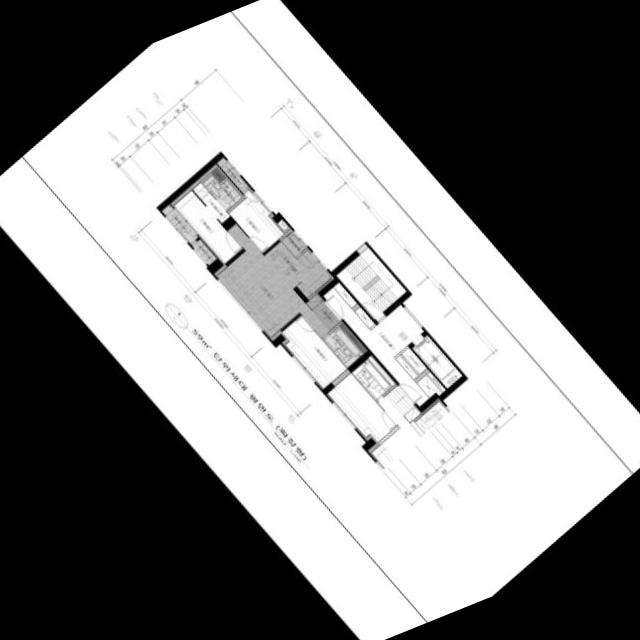background: (0, 0, 640, 640)
space_balconi: (161, 203, 197, 243)
space_bedroom: (169, 186, 241, 264), (280, 315, 346, 389), (228, 188, 284, 252)
space_dressroom: (189, 179, 229, 222)
space_elevator: (411, 334, 461, 388)
space_elevator_hall: (322, 287, 428, 406)
space_front: (305, 292, 340, 330)
space_kitchen: (263, 241, 333, 297)
space_living_room: (213, 223, 328, 340)
space_multipurpose_space: (280, 228, 305, 256)
space_other: (216, 156, 248, 192), (338, 322, 367, 353), (400, 346, 426, 374), (332, 281, 356, 307), (416, 374, 441, 397), (395, 354, 417, 379), (354, 306, 374, 328), (426, 370, 445, 391), (208, 163, 226, 182), (277, 218, 288, 230)
space_outdoor_room: (191, 238, 216, 265)
space_staircase: (335, 247, 406, 319)
space_toilet: (322, 325, 362, 367), (201, 174, 241, 210)
